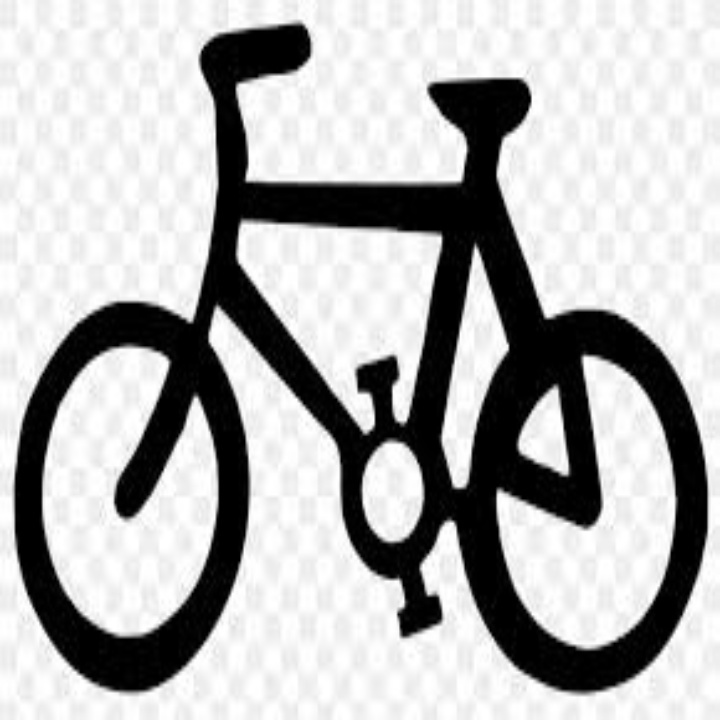bicycle: (5, 7, 713, 715)
